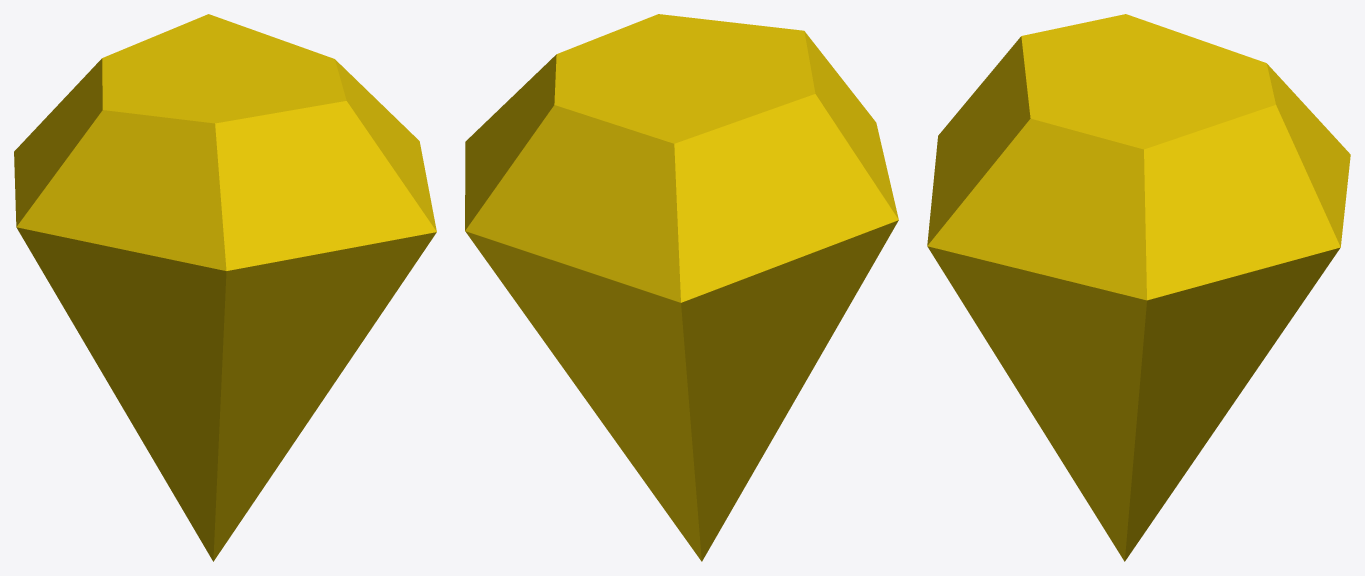
File: gem1.fbx
3 renders of one model, left to right at view 1: azimuth 30°, elevation 25°; view 2: azimuth 150°, elevation 25°; view 3: azimuth 270°, elevation 25°, orthographic. The views are drawn at different scales.
Parts seen in each view (by area): view 1: gem1; view 2: gem1; view 3: gem1.
Part boxes in pixels (<box>): gem1: <box>14,14,436,561</box>; gem1: <box>465,14,898,561</box>; gem1: <box>927,14,1350,561</box>.
Size of the model in its own units: 0.4901 by 0.5555 by 0.4251.
